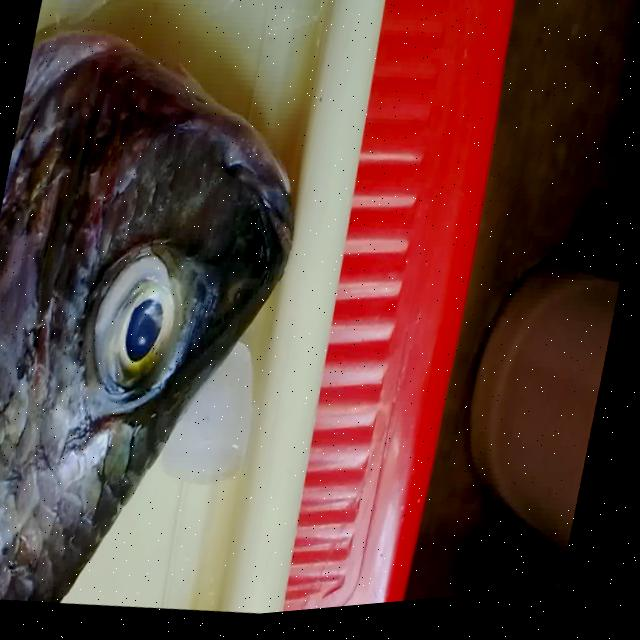Fresh: (79, 230, 209, 434)
